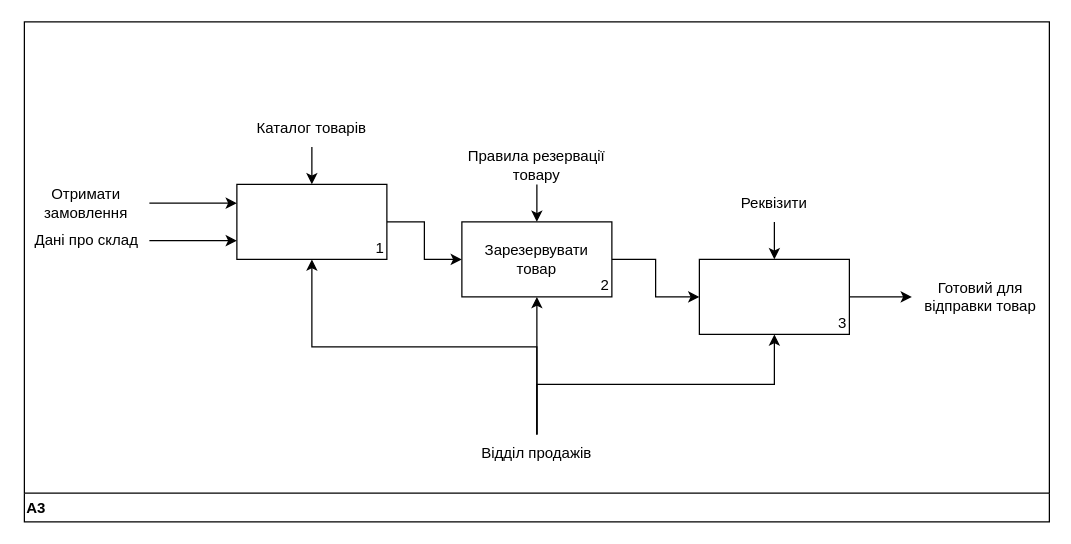
The diagram is 1071 pixels wide and 544 high, and some of its shapes have lost their labels. Here are the shapes that lost their labels. From the top down, the box of each, then its label:
(236, 183, 387, 259): Перевірити наявність товару
(698, 258, 849, 334): Оформити рахунок для клієнта
